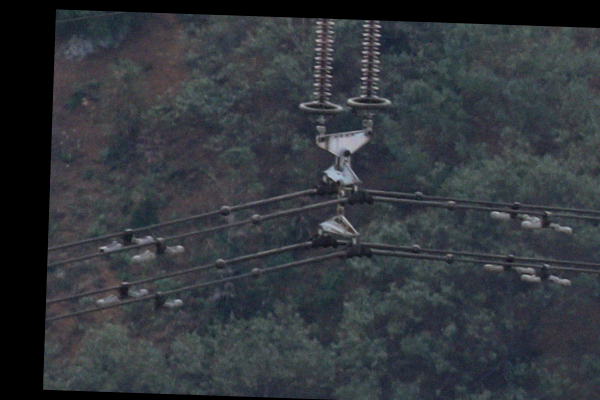damper: (127, 236, 186, 264), (97, 226, 153, 254), (94, 280, 148, 306), (518, 261, 572, 287), (480, 251, 538, 275), (520, 210, 573, 234), (487, 199, 540, 222)
damper_defect: (143, 290, 185, 315)
